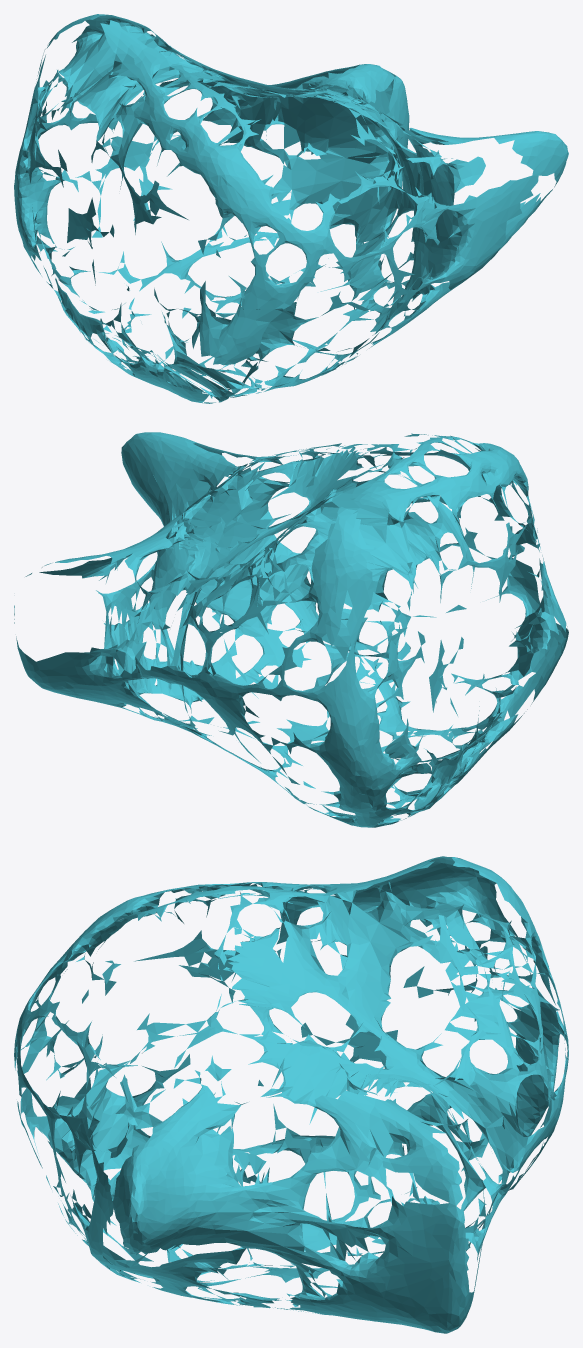
3 renders of one model, top to bottom at view 1: azimuth 30°, elevation 25°; view 2: azimuth 150°, elevation 25°; view 3: azimuth 270°, elevation 25°, orthographic. The views are drawn at different scales.
Parts seen in each view (by area): view 1: Renderer Node; view 2: Renderer Node; view 3: Renderer Node.
Boxes of the visible parts, bbox=[...] form: Renderer Node: bbox=[14, 14, 568, 403]; Renderer Node: bbox=[14, 432, 568, 827]; Renderer Node: bbox=[14, 856, 568, 1333].
Size of the model in its own units: 0.5873 by 0.4445 by 0.5623.
1 material, 1 textured.
